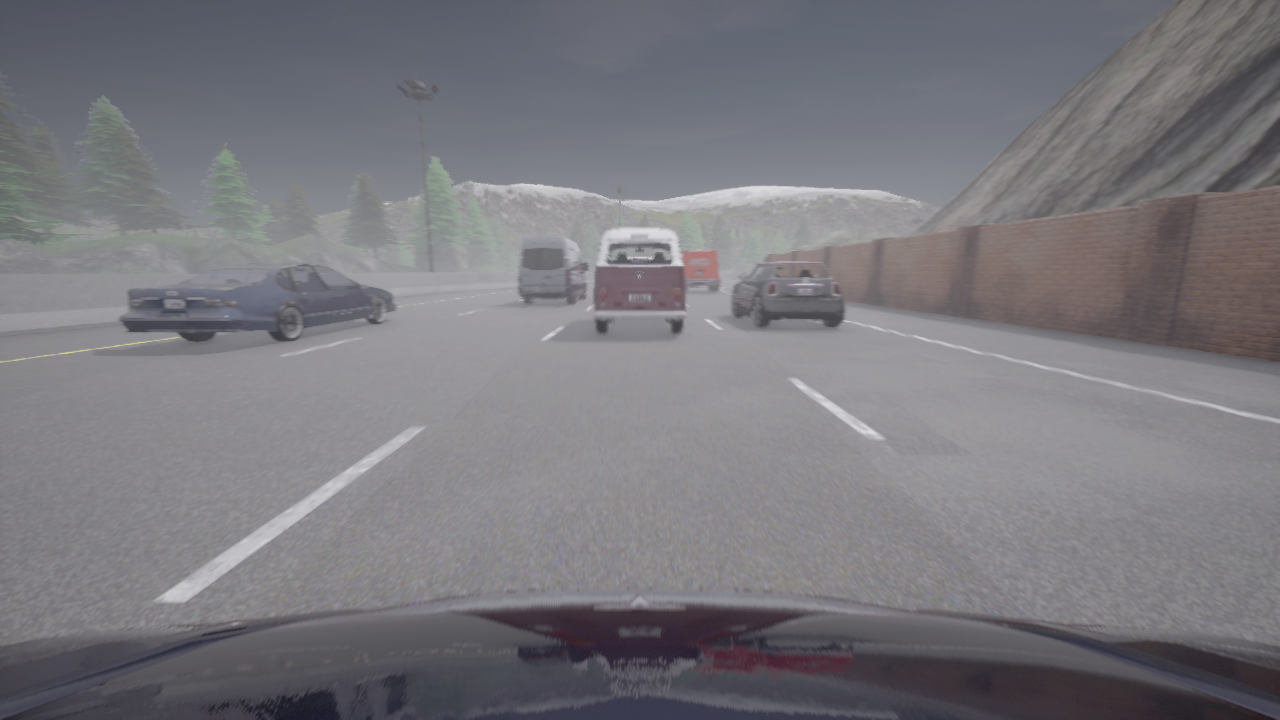cyclist: (0, 588, 1279, 719), (120, 263, 398, 341), (593, 228, 686, 333), (732, 261, 844, 327), (519, 236, 587, 303), (682, 250, 720, 291)
